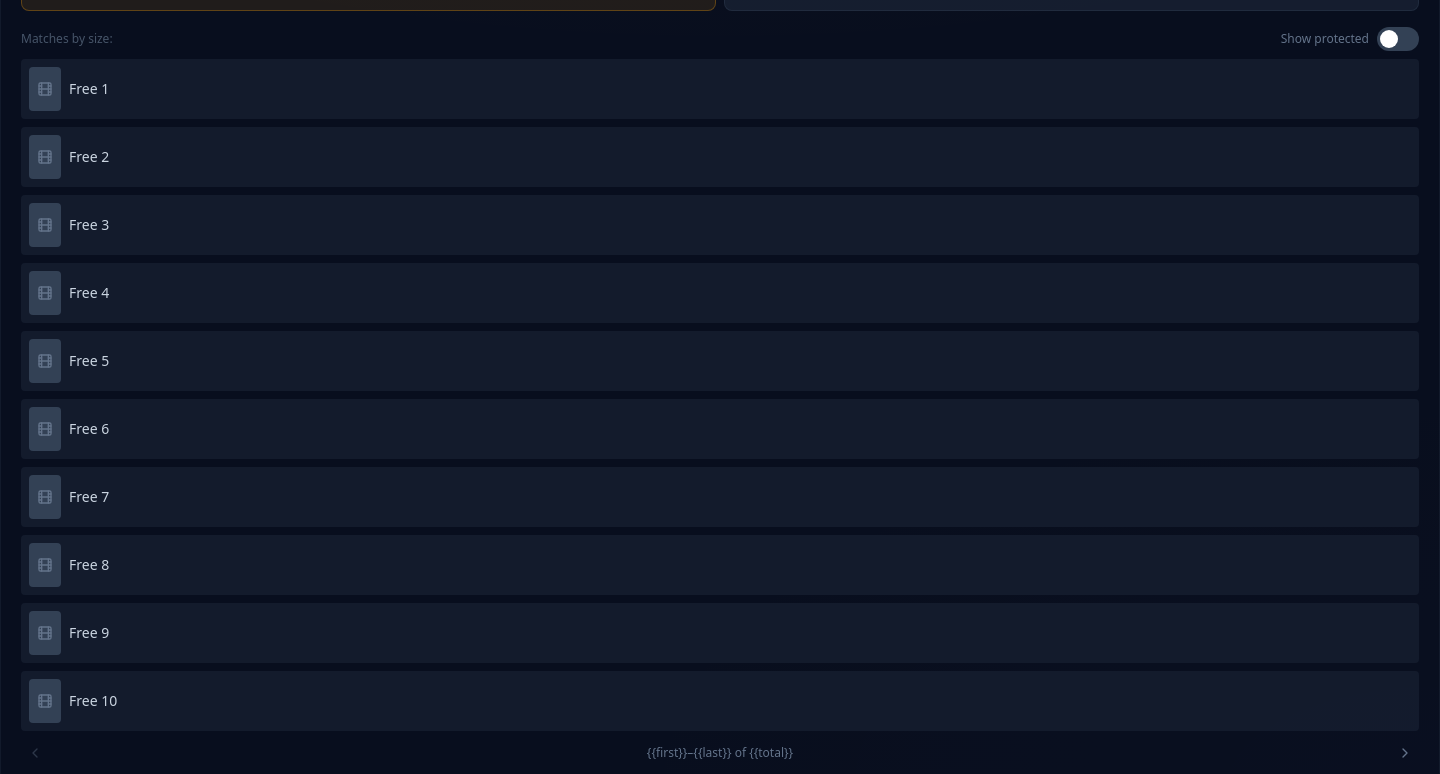
LivePreview matches list › goes back to the first page when protected items are toggled
(page scrolled)
Expected: the text "Free 1" is shown, [69, 79, 109, 99]
Click the button named "Next page" at (1405, 753), box [1391, 739, 1419, 767]
(page scrolled)
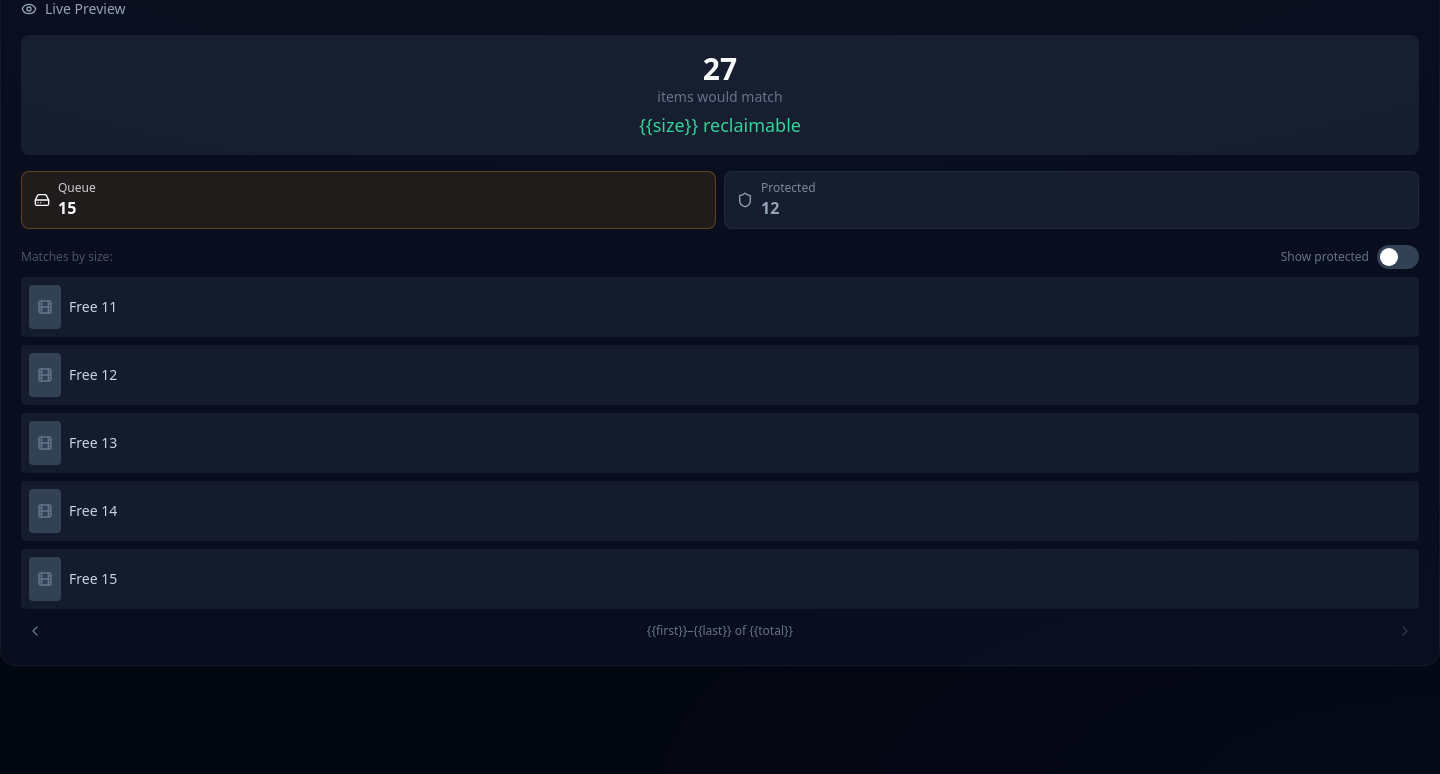
Expected: the text "Free 11" is shown, [69, 297, 117, 317]
Click the switch at (1398, 257), box [1377, 245, 1419, 269]
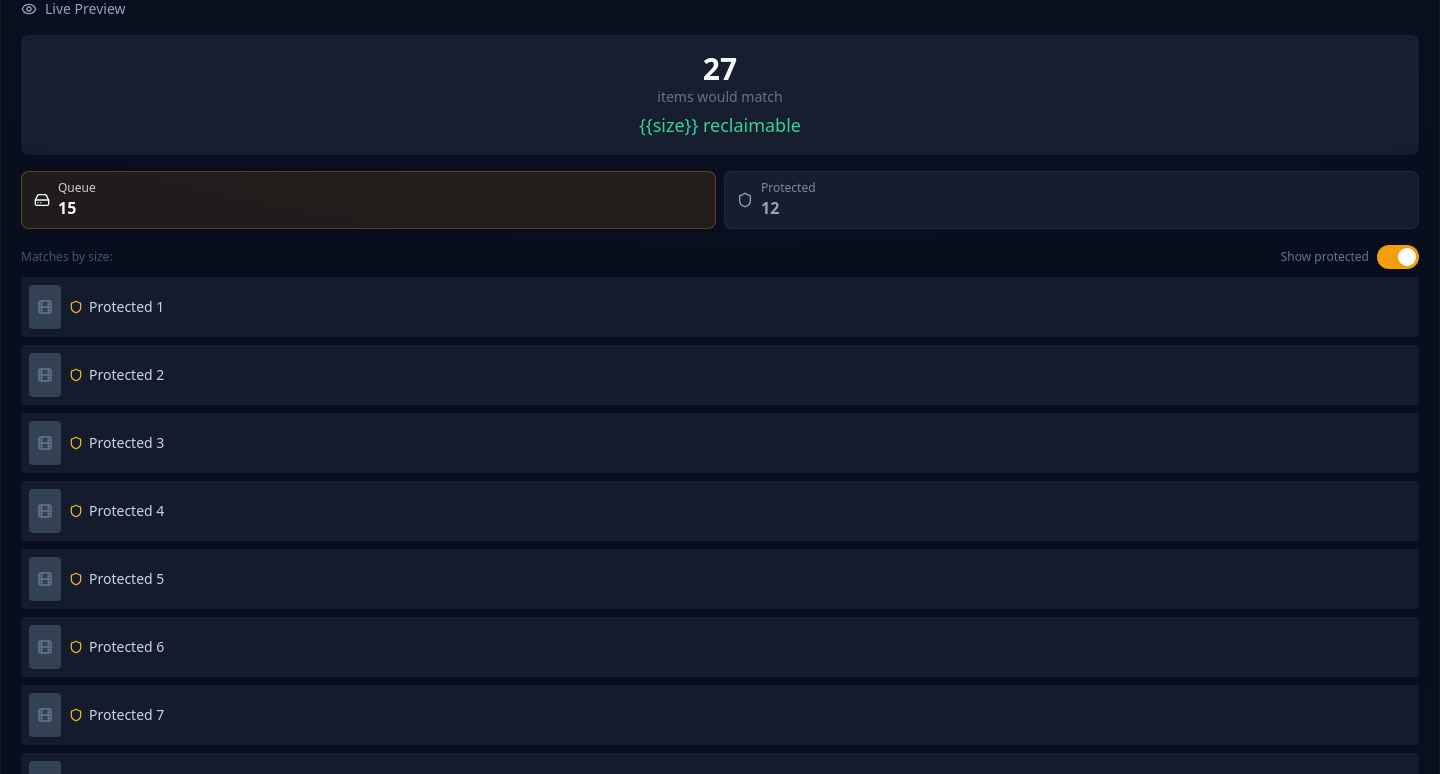
Expected: the text "Protected 1" is shown, [89, 297, 164, 317]
